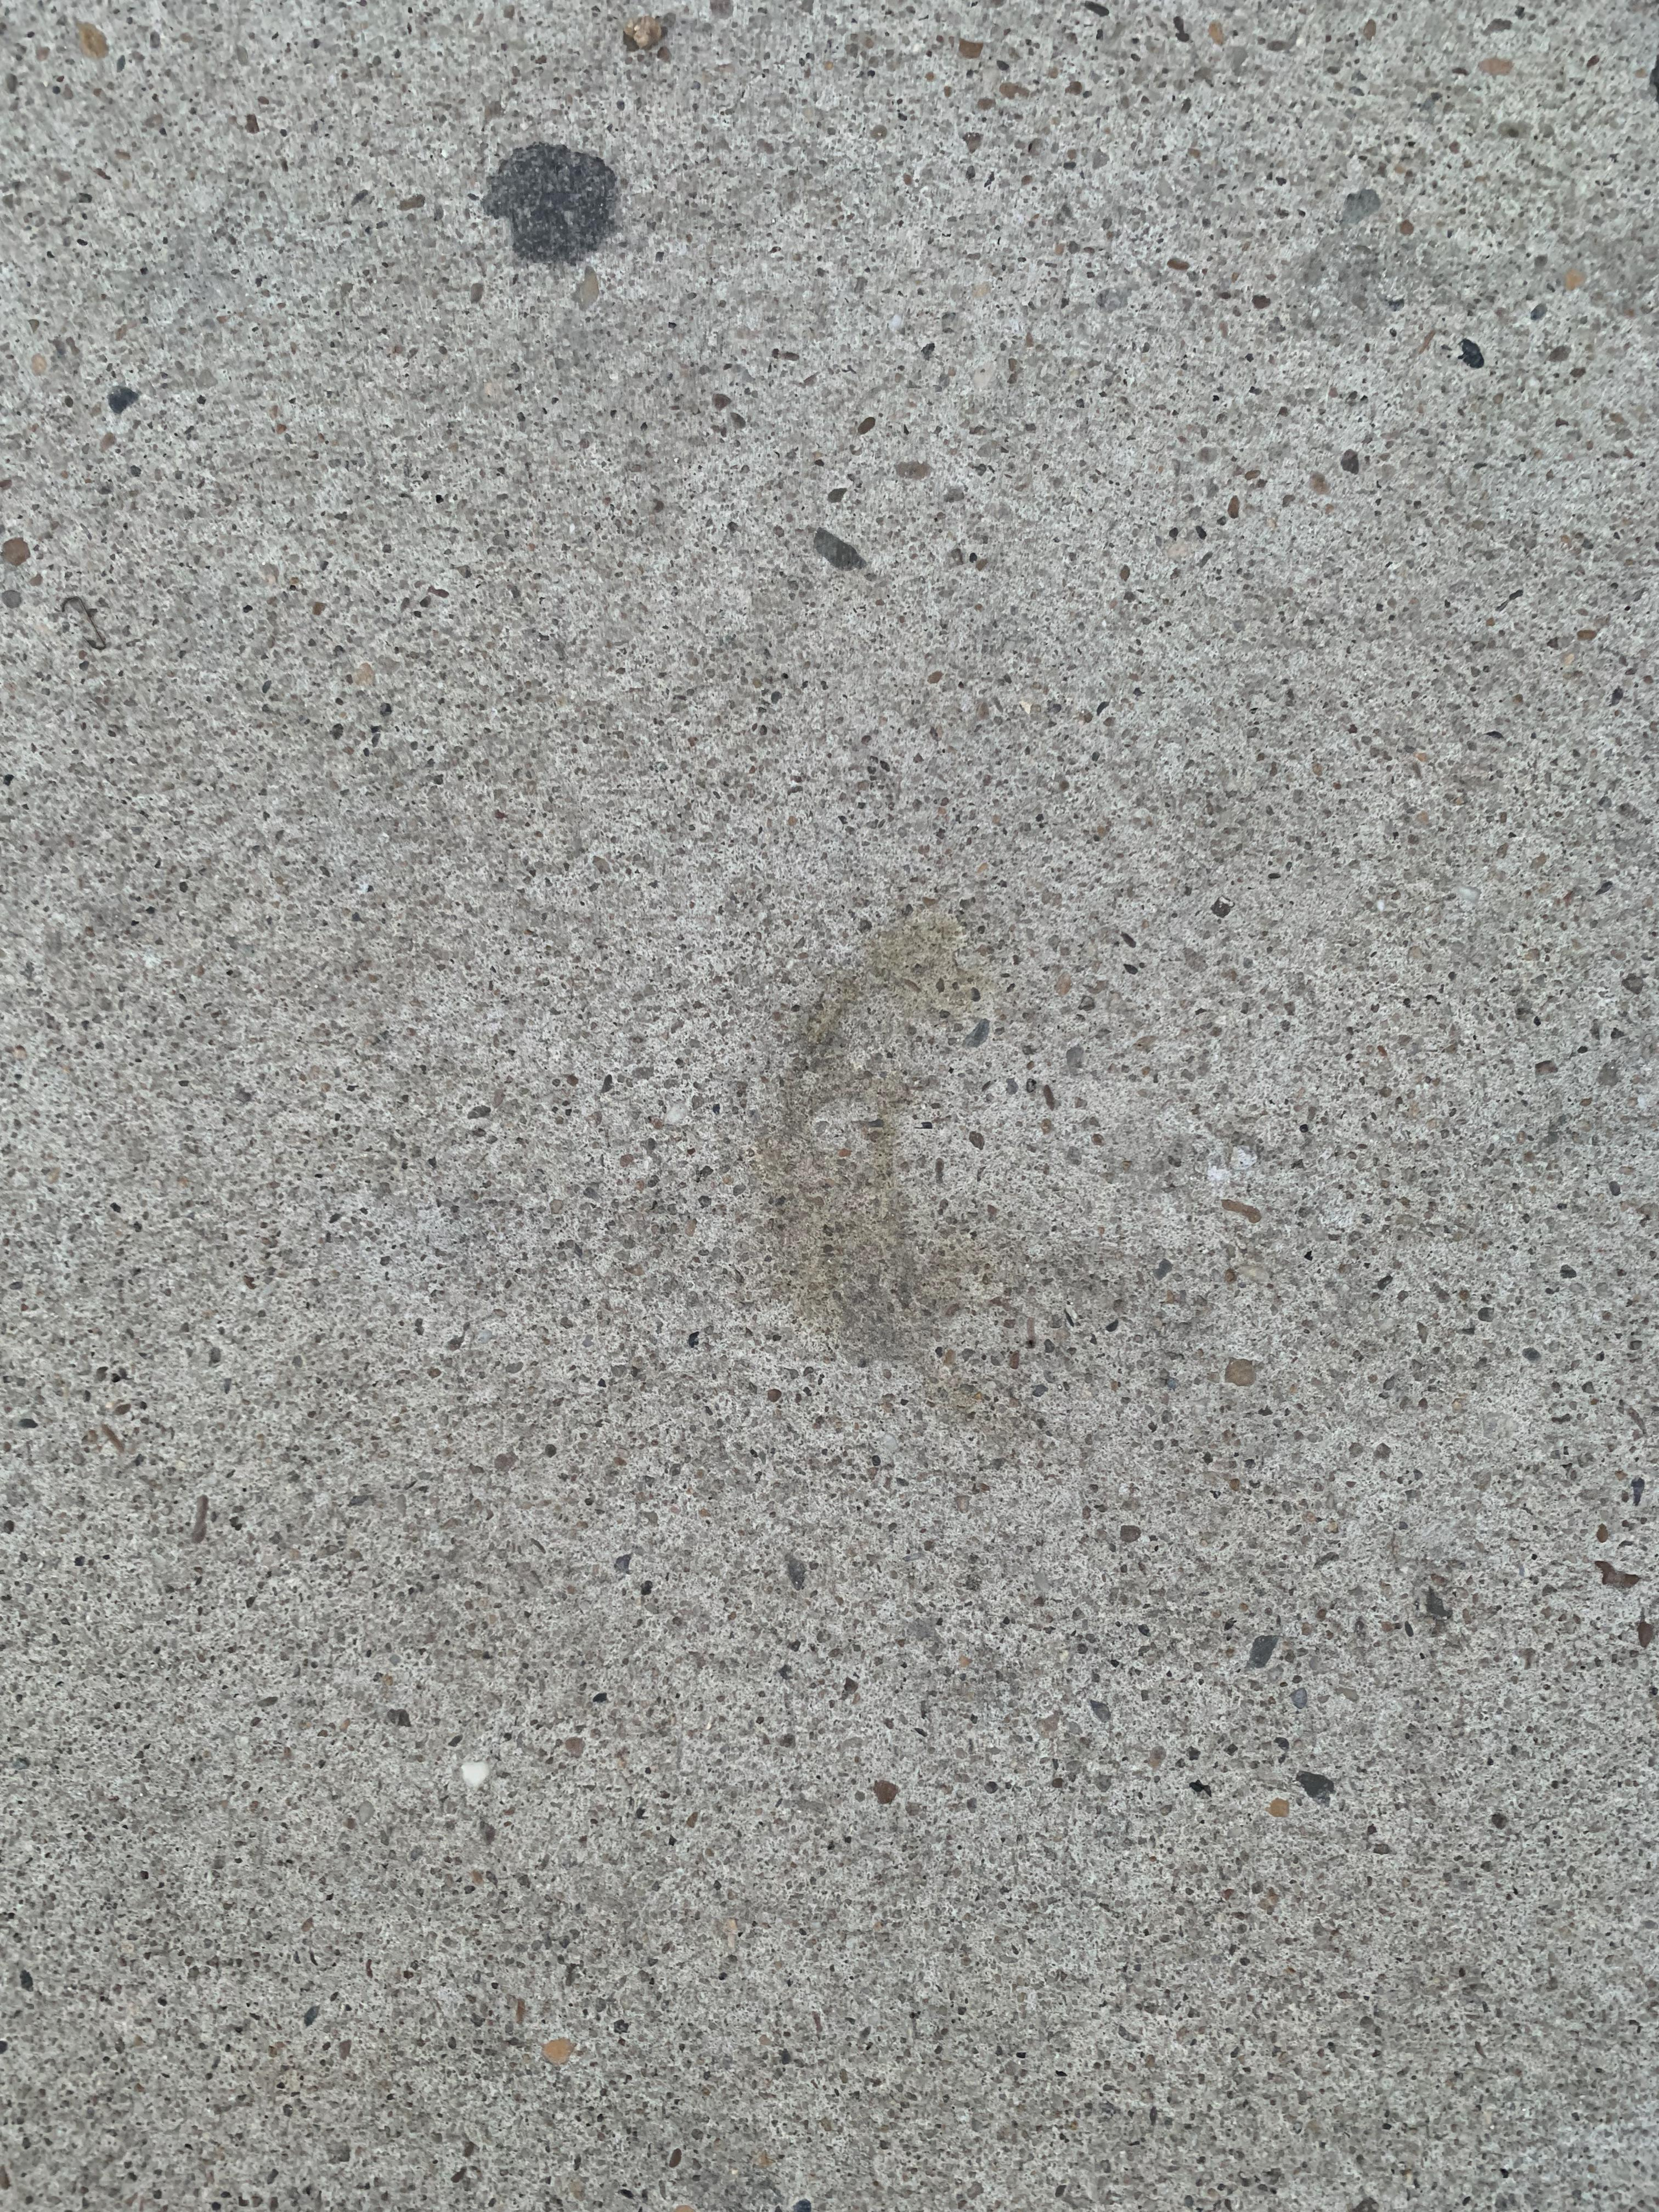ash pile: (758, 904, 1012, 1379)
grey spot: (481, 146, 620, 265)
